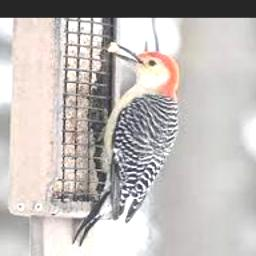Woodpecker: (72, 43, 179, 246)
